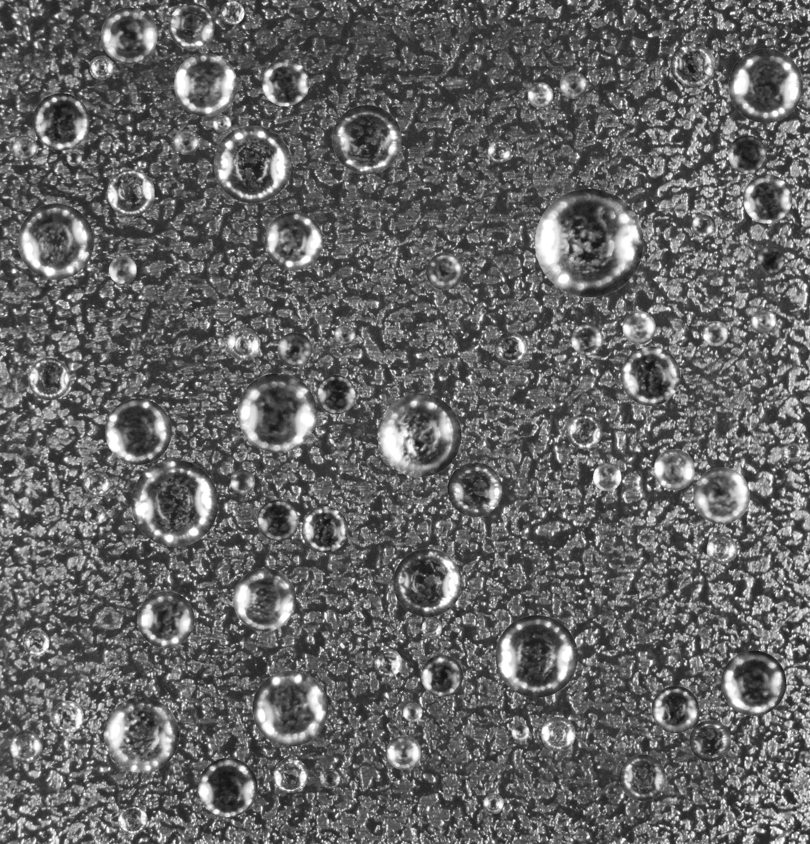Bubble: (535, 188, 643, 297), (131, 459, 218, 546), (377, 393, 461, 477), (495, 615, 577, 697), (237, 373, 316, 452), (213, 125, 291, 203), (252, 670, 328, 746), (17, 203, 93, 279), (103, 697, 179, 772), (728, 48, 802, 122), (332, 104, 401, 174), (393, 548, 461, 617), (105, 398, 171, 464), (721, 650, 786, 715), (174, 53, 237, 116), (233, 568, 296, 631), (621, 346, 680, 405), (198, 758, 257, 817), (264, 211, 322, 269), (693, 467, 750, 524), (137, 591, 194, 648), (32, 93, 89, 150), (100, 7, 157, 63), (447, 462, 502, 516), (743, 174, 792, 223), (261, 59, 309, 106), (651, 686, 699, 733), (107, 169, 154, 216), (619, 754, 665, 801), (301, 506, 348, 552), (168, 3, 214, 49), (670, 42, 715, 87), (28, 357, 70, 400), (689, 720, 731, 761), (421, 655, 462, 696), (653, 449, 694, 490), (256, 500, 297, 540), (316, 375, 355, 414), (728, 135, 766, 173), (426, 252, 463, 290), (566, 413, 602, 449), (273, 758, 308, 793), (277, 332, 312, 366), (541, 717, 575, 751), (386, 735, 420, 769), (227, 327, 260, 360), (494, 332, 527, 365), (9, 730, 42, 763), (622, 311, 655, 344), (51, 700, 83, 733), (571, 324, 602, 355), (706, 534, 736, 564), (117, 805, 147, 834), (373, 648, 402, 677), (108, 256, 136, 284), (593, 463, 621, 491), (757, 245, 784, 273), (559, 71, 586, 98), (22, 629, 49, 655), (527, 82, 553, 108), (84, 471, 110, 497), (702, 321, 728, 346), (12, 135, 37, 160), (173, 129, 198, 154), (751, 309, 776, 334), (230, 469, 254, 494), (89, 55, 113, 79), (692, 214, 715, 237), (221, 1, 244, 24), (488, 140, 510, 162), (334, 324, 355, 345), (84, 503, 105, 524), (421, 617, 442, 638), (483, 793, 503, 814), (320, 768, 340, 788), (403, 702, 422, 722), (212, 114, 231, 133), (511, 723, 529, 741), (784, 442, 801, 460), (66, 150, 81, 166)
